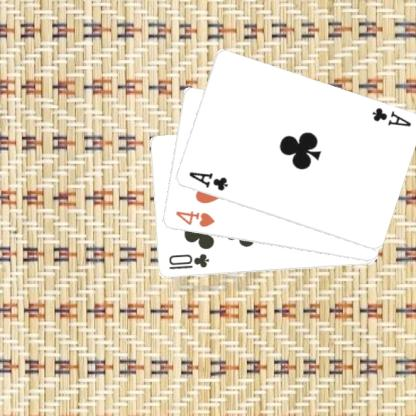10C: (166, 252, 210, 272)
4H: (173, 208, 215, 229)
AC: (185, 168, 229, 193), (368, 105, 412, 128)
